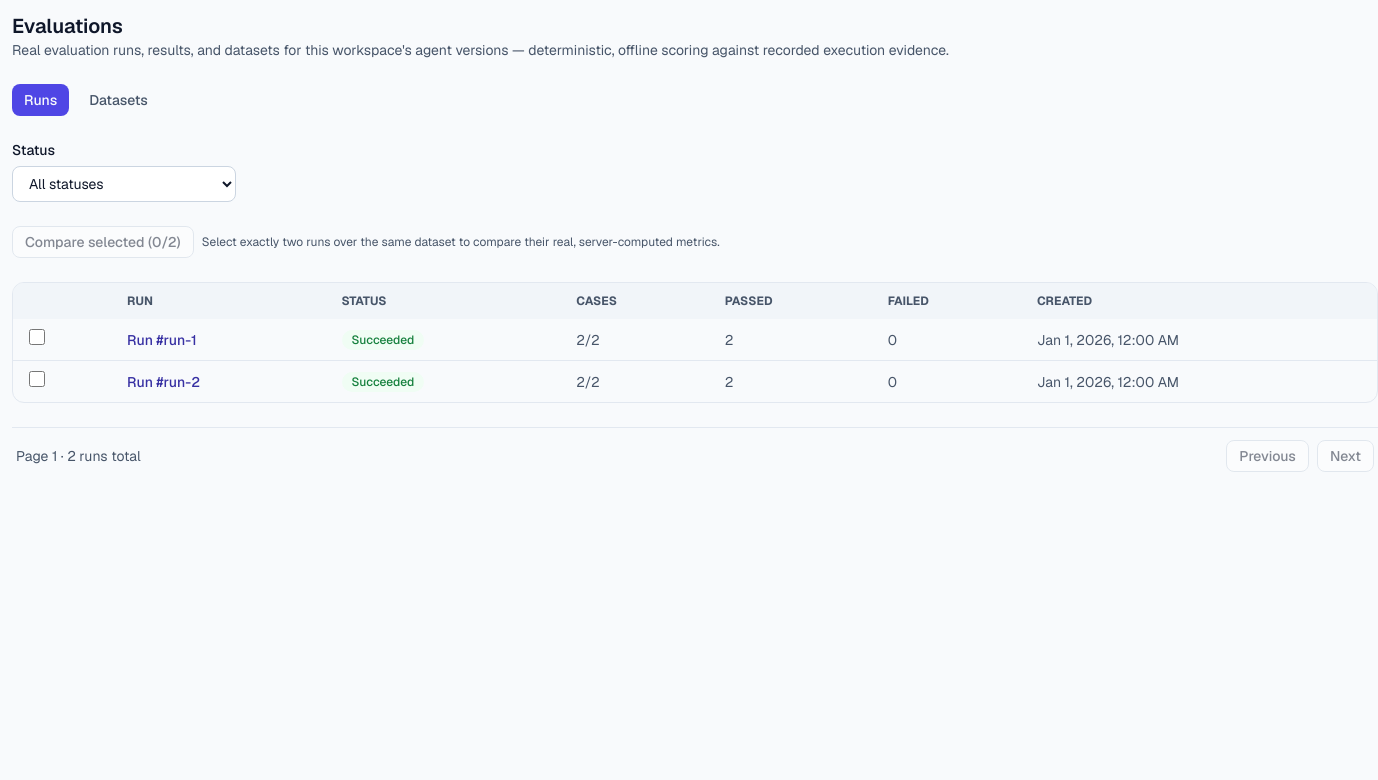
Test: Compare Runs (Phase 23 Chunk 3) › compares two selected runs and renders the real server-computed metrics, deltas, and threshold verdicts
The image size is (1378, 780).
Expected: the button "Compare selected (0/2)" is shown, x1=12 y1=226 x2=194 y2=258
Click the checkbox named "Select run run-1 for comparison" at (37, 337), box x1=29 y1=329 x2=45 y2=345
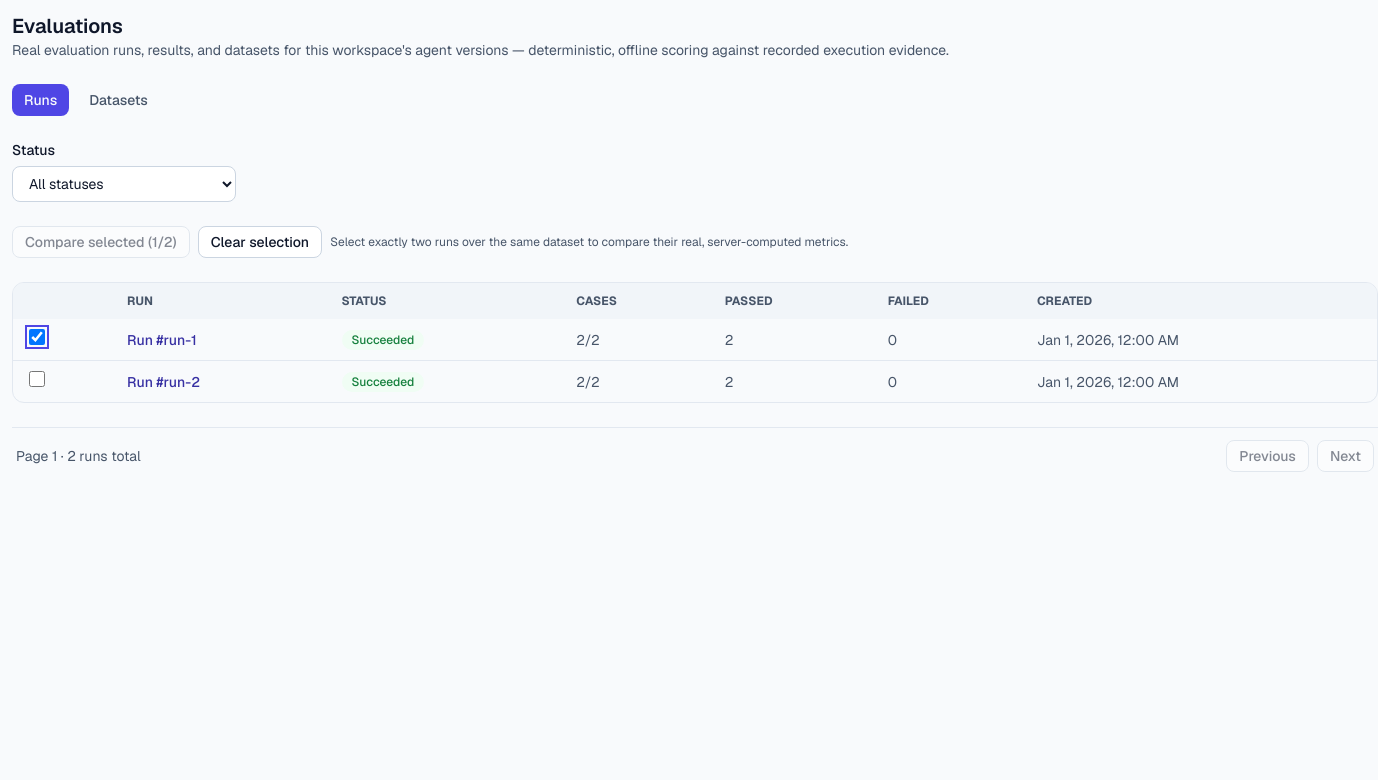
Click the checkbox named "Select run run-2 for comparison" at (37, 379), box x1=29 y1=371 x2=45 y2=387
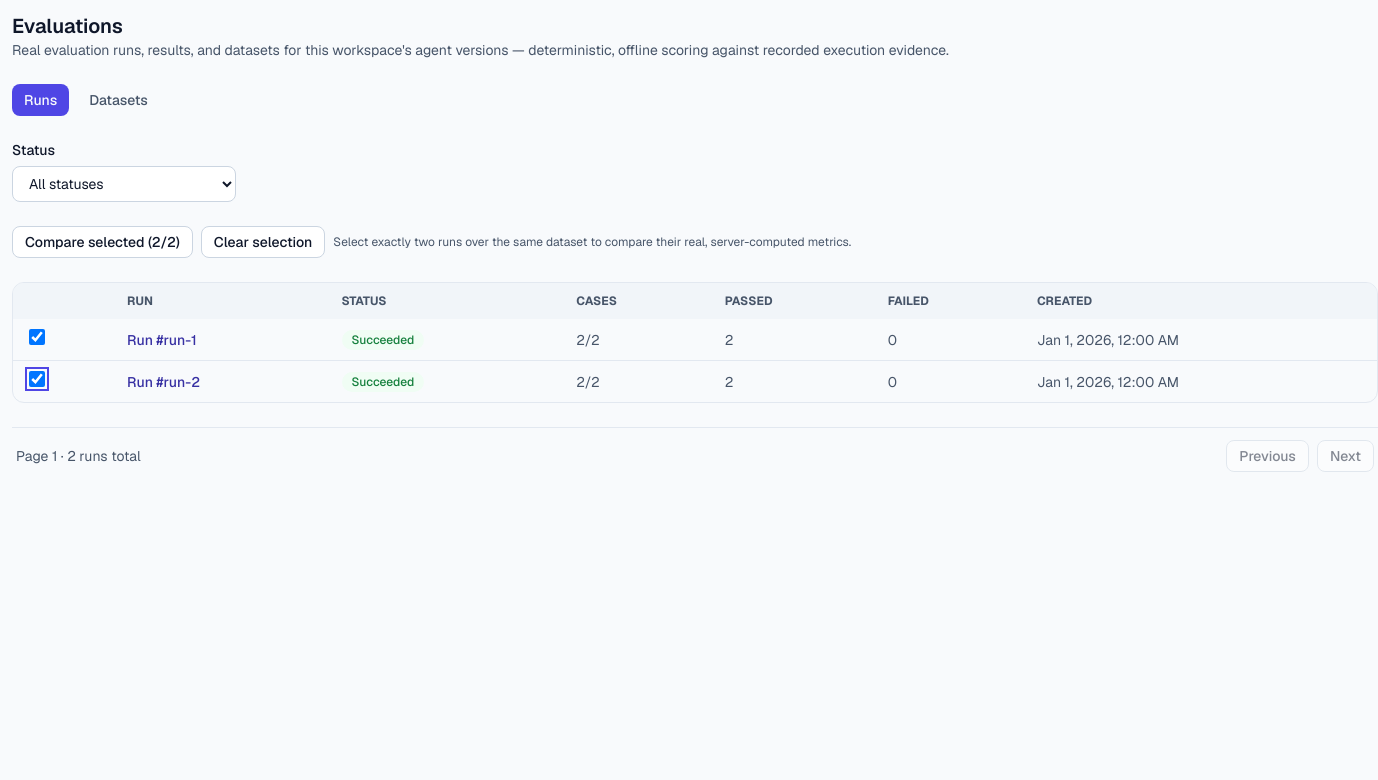
Click the button "Compare selected (2/2)" at (102, 242), box x1=12 y1=226 x2=193 y2=258
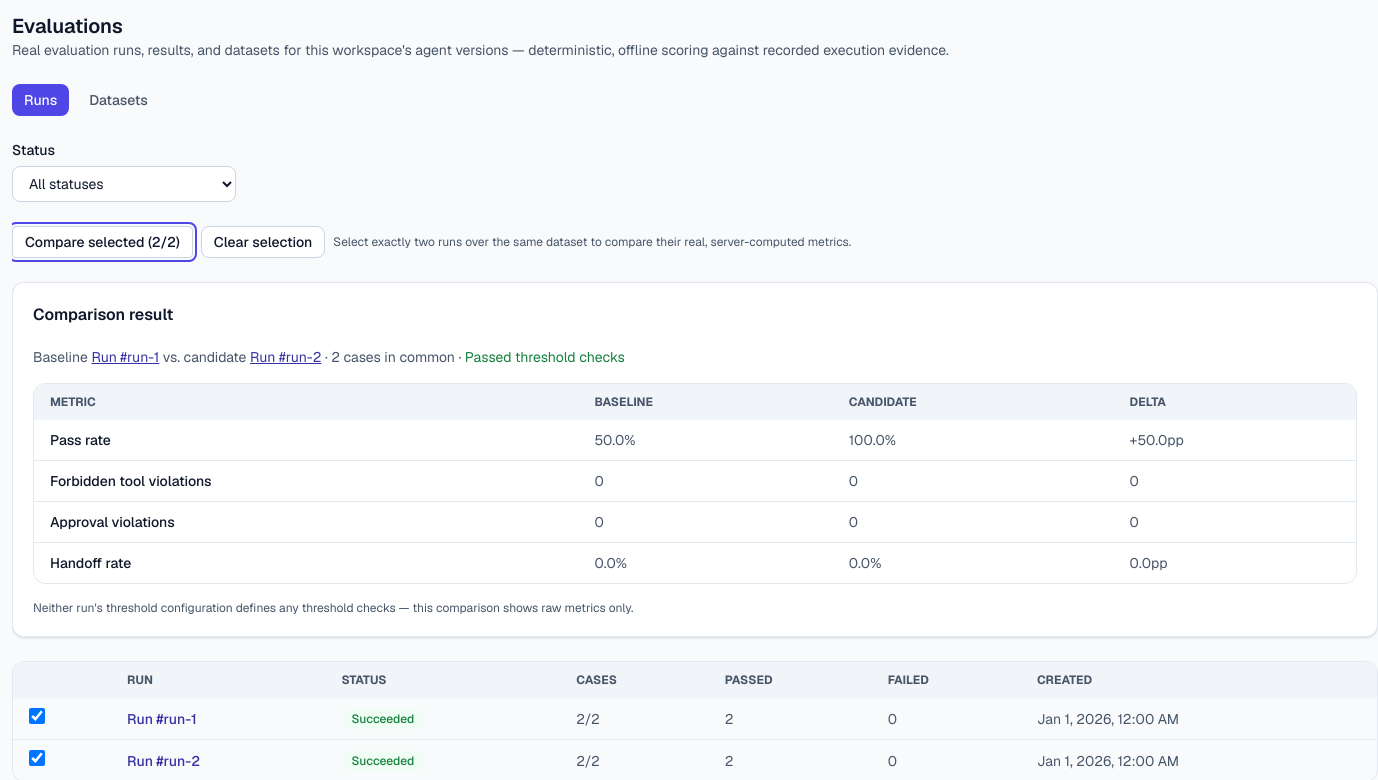
Now the heading "Comparison result" is shown, box x1=33 y1=304 x2=173 y2=325
Now the text "50.0%" is shown, box x1=578 y1=420 x2=833 y2=460
Now the text "100.0%" is shown, box x1=833 y1=420 x2=1114 y2=460
